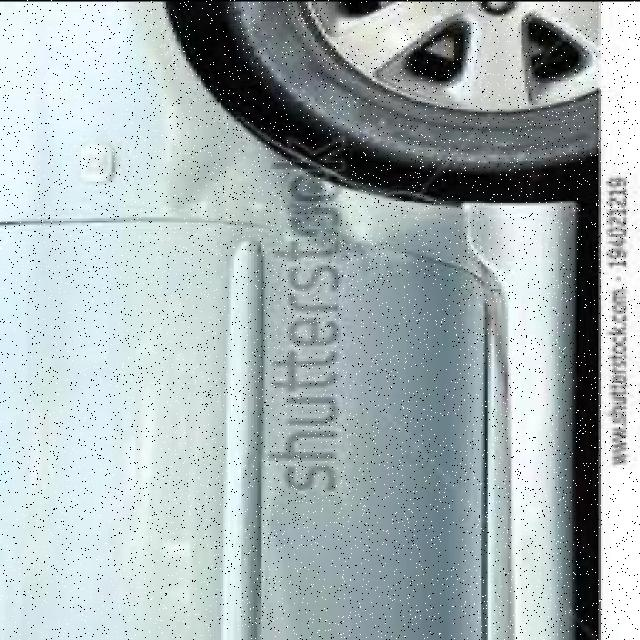damage: (149, 42, 417, 282)
